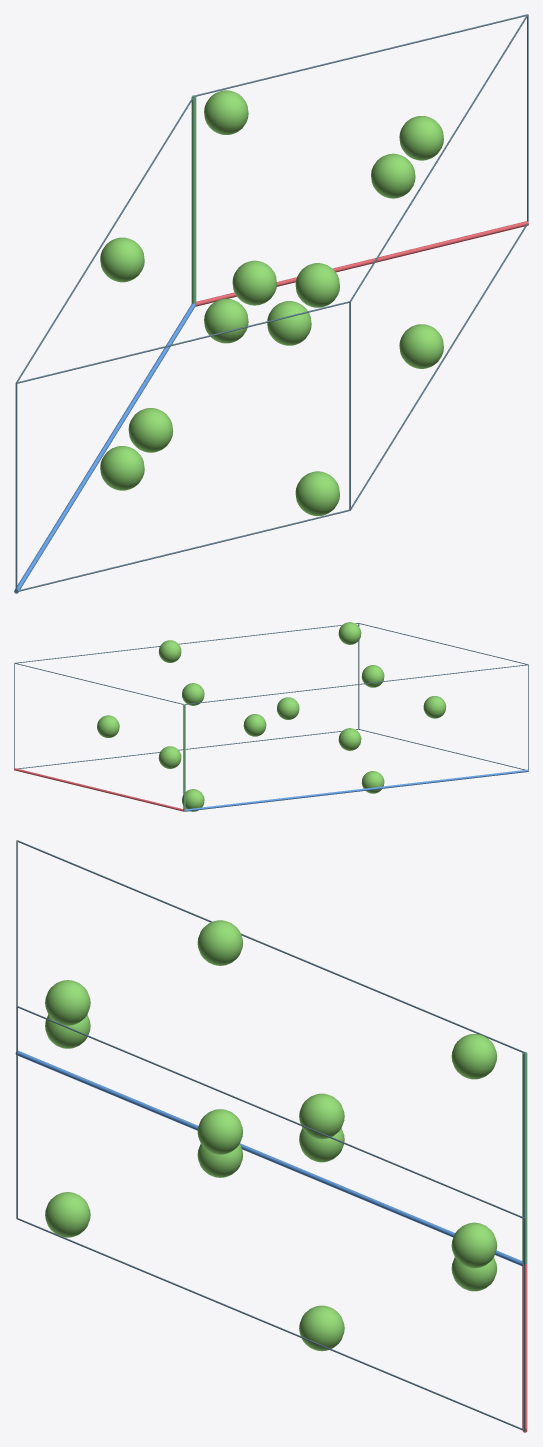
Rendered from chat-solid-fluorine-alpha.glb.
The picture shows the model from 3 angles, top to bottom: view 1: azimuth 30°, elevation 25°; view 2: azimuth 150°, elevation 25°; view 3: azimuth 270°, elevation 25°; orthographic projection. The views are drawn at different scales.
Visible parts, largest first — view 1: Ô mạng và các trục a, b, c, F2 · F · 1 (×6), F1 · F · 1 (×6); view 2: Ô mạng và các trục a, b, c, F1 · F · 1 (×6), F2 · F · 1 (×6); view 3: Ô mạng và các trục a, b, c, F1 · F · 1 (×6), F2 · F · 1 (×6).
Part boxes in pixels (x1,y1,x2,y2): Ô mạng và các trục a, b, c: [14, 14, 528, 593]; F2 · F · 1 (×6): [100, 116, 443, 490]; F1 · F · 1 (×6): [128, 90, 415, 516]; Ô mạng và các trục a, b, c: [14, 623, 528, 811]; F1 · F · 1 (×6): [97, 622, 446, 811]; F2 · F · 1 (×6): [158, 640, 384, 793]; Ô mạng và các trục a, b, c: [15, 840, 527, 1432]; F1 · F · 1 (×6): [45, 980, 497, 1291]; F2 · F · 1 (×6): [197, 920, 344, 1351].
Size of the model in its own units: 12.57 by 3.92 by 7.18.
